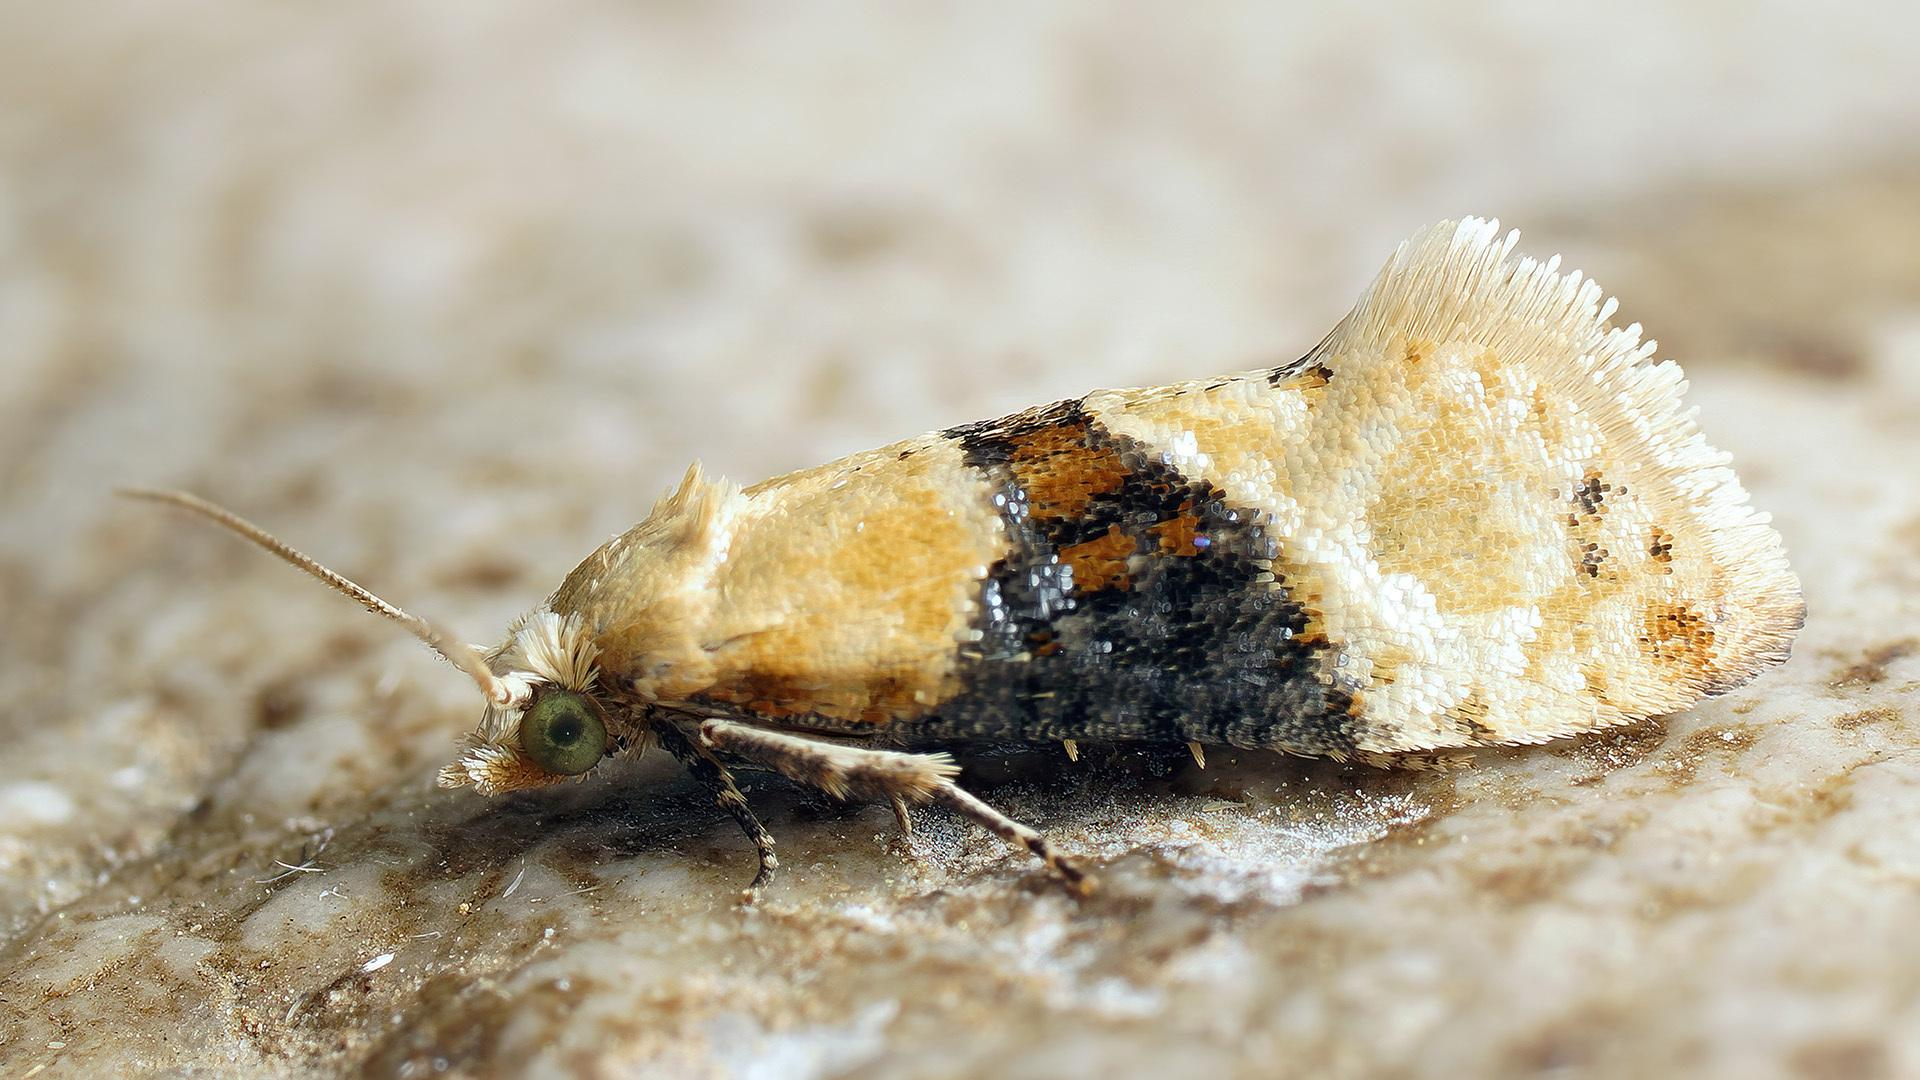Eupoecilia Ambiguella: (111, 210, 1811, 909)
